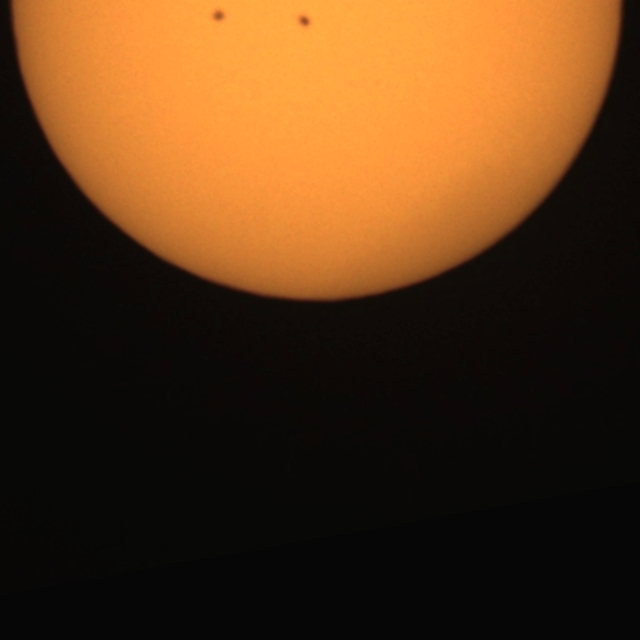sunspot: (210, 7, 228, 25), (296, 13, 313, 30)
